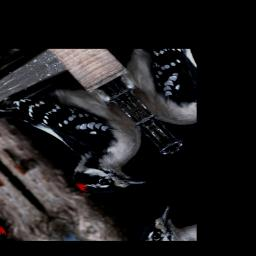Woodpecker: (0, 58, 182, 229)
